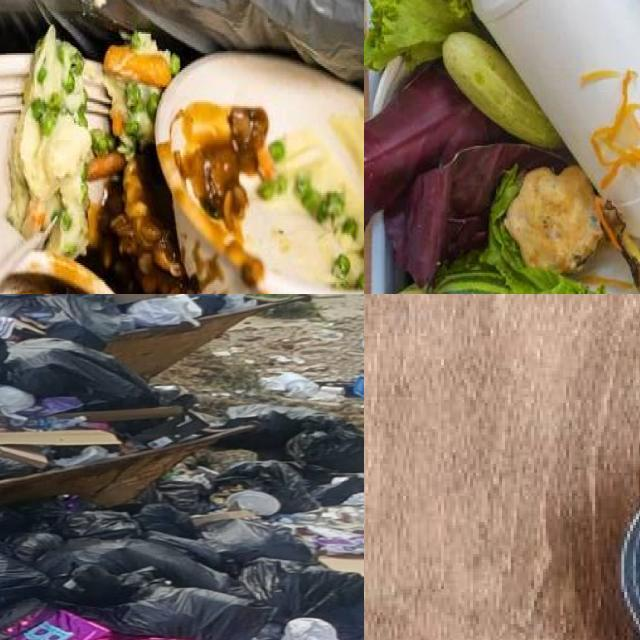Disposable: (156, 56, 364, 294), (85, 65, 110, 128)
Garbage: (0, 294, 364, 640), (0, 29, 364, 294), (364, 0, 640, 294)
Plastic_Bag: (8, 338, 158, 409), (239, 558, 364, 640), (37, 538, 228, 591), (103, 586, 273, 640), (221, 407, 364, 471), (145, 519, 315, 572), (215, 460, 320, 513), (42, 294, 134, 341), (0, 494, 92, 540), (286, 419, 364, 473), (55, 565, 137, 607), (0, 554, 50, 608), (126, 294, 202, 327), (134, 503, 200, 538), (63, 510, 139, 538), (307, 525, 364, 555), (11, 532, 63, 562), (0, 385, 37, 416), (24, 621, 74, 640), (0, 456, 37, 480), (186, 294, 226, 313)
Plastic_bottle: (470, 0, 640, 238)
contaminated_waste: (156, 54, 364, 294), (456, 0, 640, 254)
